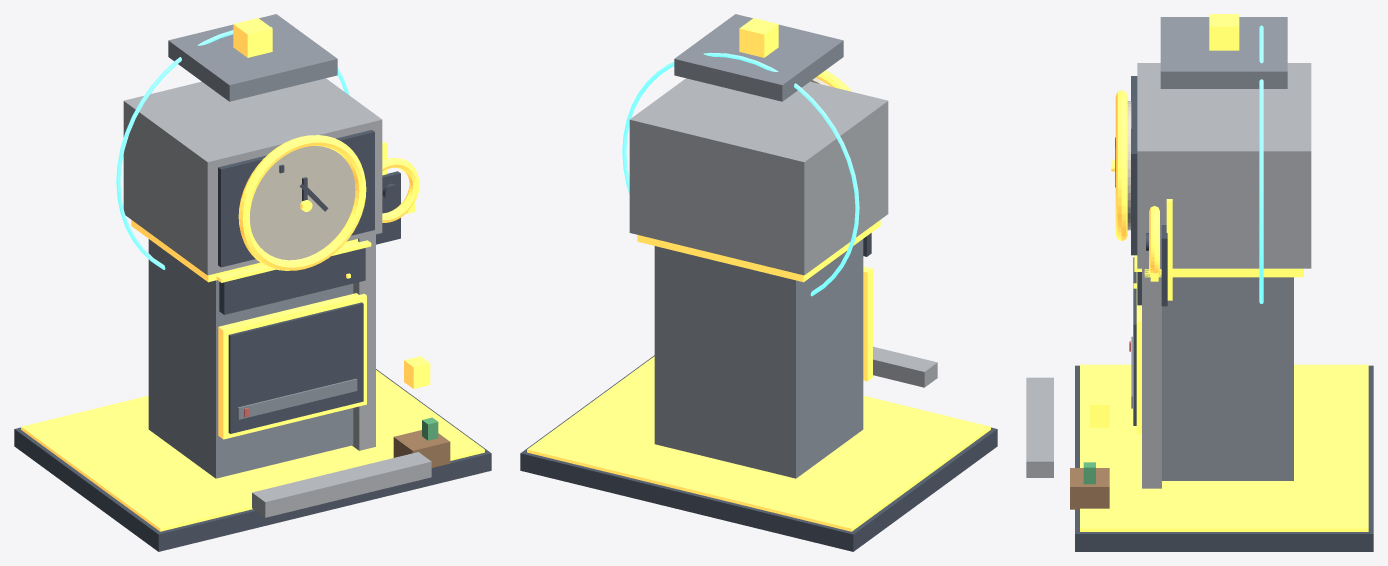
The model's file is gdg_schedule.glb.
3 renders of one model, left to right at view 1: azimuth 30°, elevation 25°; view 2: azimuth 150°, elevation 25°; view 3: azimuth 270°, elevation 25°, orthographic. The views are drawn at different scales.
Visible parts, largest first — view 1: clock_house, base_gold, tower, agenda_screen, clock_face, base, roof_tier, entry_step, schedule_plaque, clock_panel, clock_bezel, agenda_frame (+10 smaller); view 2: tower, clock_house, base_gold, base, roof_tier, cyan_aura, entry_step, tower_belt, roof_finial, agenda_frame; view 3: clock_house, base_gold, tower, roof_tier, base, corner_pillar, entry_step, clock_bezel, planter, tower_belt, cyan_aura, clock_panel (+8 smaller).
Boxes of the visible parts, x1,y1,x2,y2 form: clock_house: (123, 78, 382, 275); base_gold: (21, 370, 484, 531); tower: (148, 239, 353, 478); agenda_screen: (228, 302, 363, 433); clock_face: (249, 146, 355, 260); base: (14, 369, 491, 551); roof_tier: (168, 14, 337, 101); entry_step: (252, 452, 431, 517); schedule_plaque: (219, 248, 365, 314); clock_panel: (218, 130, 374, 267); clock_bezel: (238, 135, 366, 270); agenda_frame: (218, 293, 366, 439); tower: (654, 239, 863, 478); clock_house: (629, 78, 888, 275); base_gold: (527, 356, 990, 531); base: (520, 355, 997, 551); roof_tier: (674, 14, 843, 101); cyan_aura: (622, 52, 859, 296); entry_step: (873, 346, 937, 387); tower_belt: (637, 220, 880, 282); roof_finial: (739, 18, 778, 57); agenda_frame: (863, 266, 872, 381); clock_house: (1137, 63, 1311, 268); base_gold: (1080, 364, 1368, 531); tower: (1162, 277, 1293, 480); roof_tier: (1160, 17, 1287, 88); base: (1075, 365, 1373, 551); corner_pillar: (1142, 268, 1161, 488); entry_step: (1026, 377, 1053, 477); clock_bezel: (1115, 90, 1127, 241); planter: (1070, 468, 1109, 509); tower_belt: (1144, 268, 1303, 277); cyan_aura: (1259, 25, 1263, 303); clock_panel: (1131, 76, 1137, 255).
Size of the model in its own units: 8 by 9.93 by 6.97.
